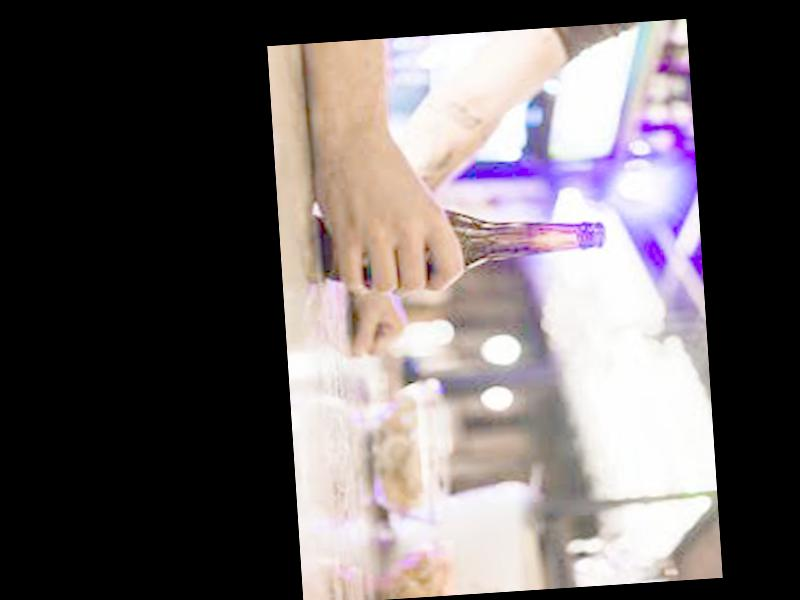Beer: (319, 200, 607, 281)
